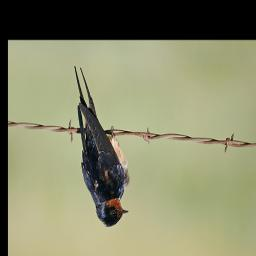Swallow: (71, 65, 130, 229)
